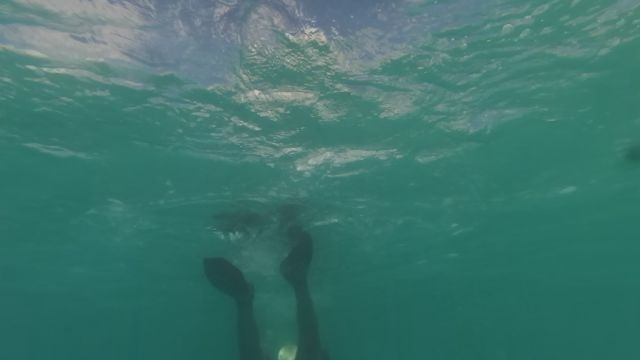Diver: (176, 245, 367, 353)
